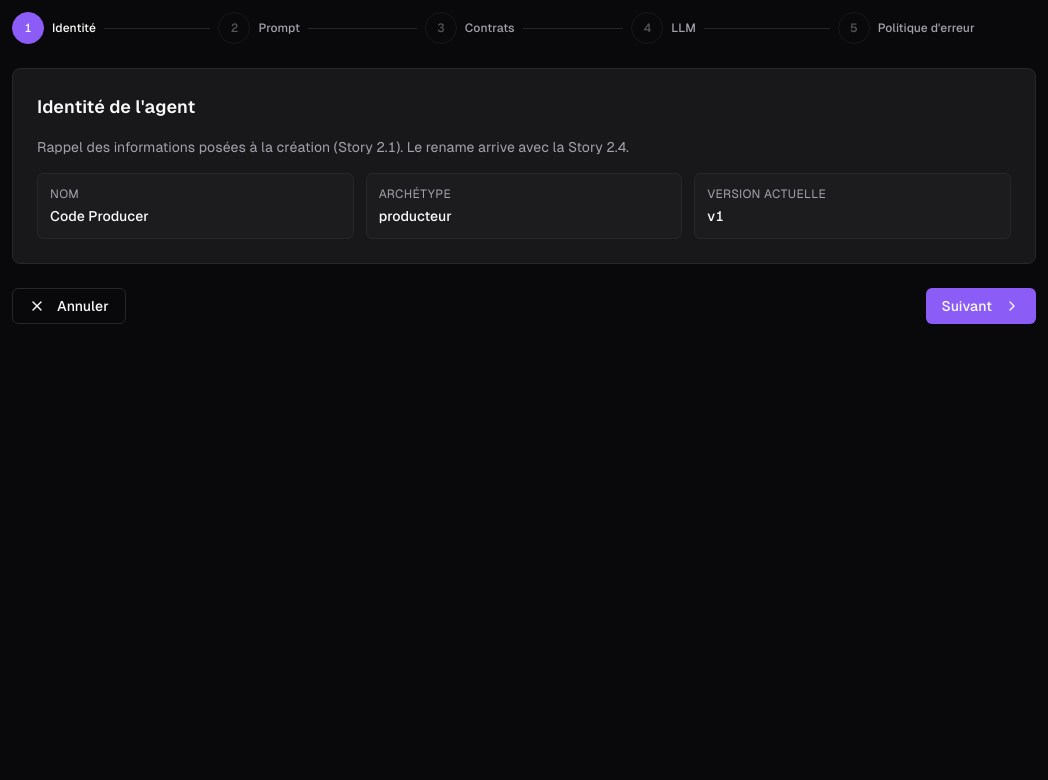
Test case: TemplateWizardForm › blocks 'Suivant' when the step Zod validation fails (invalid provider_chain JSON)
The image size is (1048, 780).
Step 1 — Identité (read-only). Click Next, expect Step 2 "System prompt".
Click the button "Suivant" at {"x": 981, "y": 306}, box [926,288,1036,324]
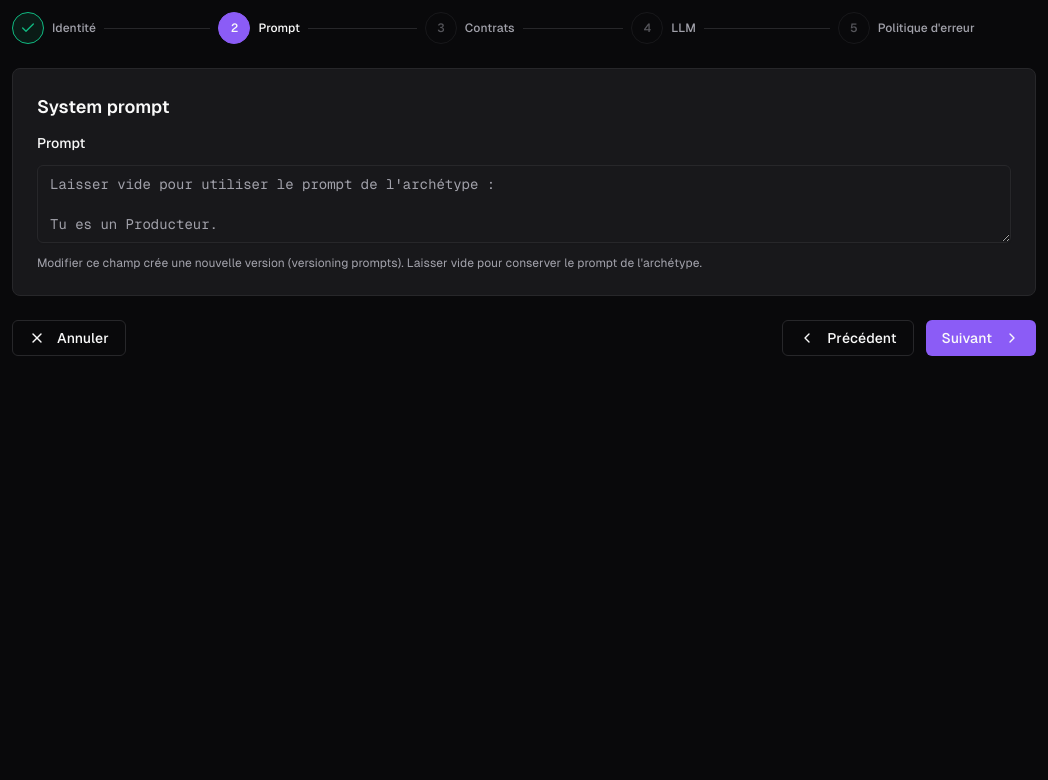
Expected: the heading "System prompt" is shown, [37,96,170,117]
Step 2 — Prompt. Click Next, expect Step 3 "Contrats élastiques".
Click the button "Suivant" at {"x": 981, "y": 338}, box [926,320,1036,356]
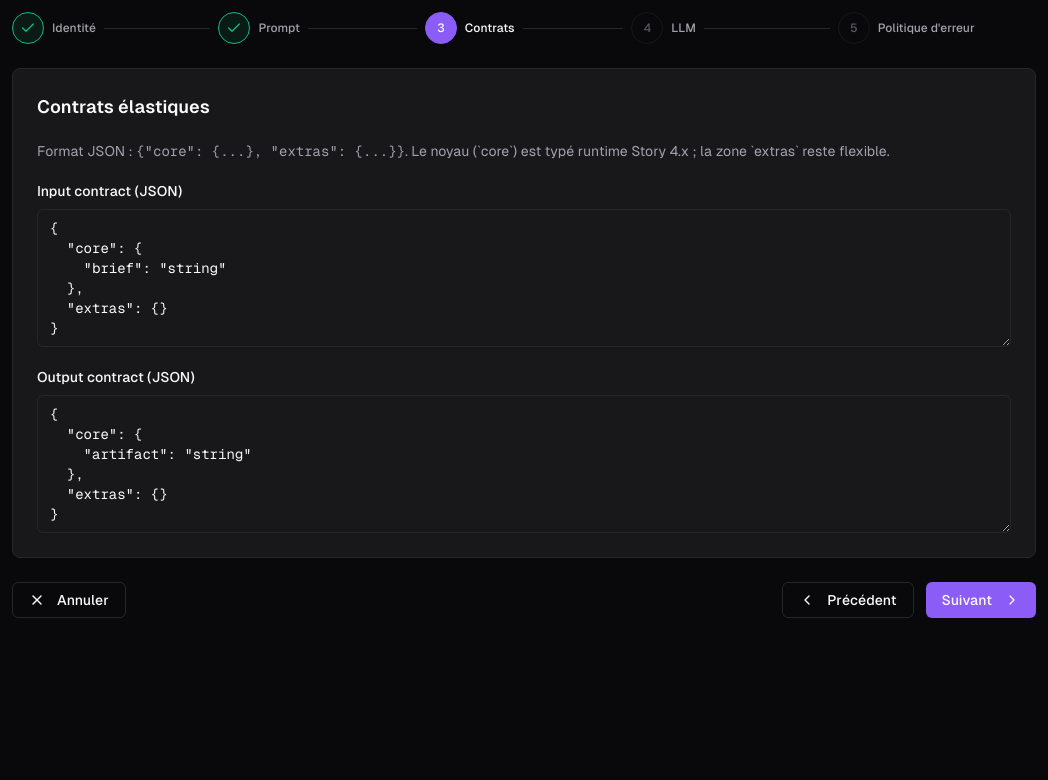
Expected: the heading "Contrats élastiques" is shown, [37,96,210,117]
Step 3 — Contracts. Click Next, expect Step 4 "Modèle LLM & provider chain".
Click the button "Suivant" at {"x": 981, "y": 600}, box [926,582,1036,618]
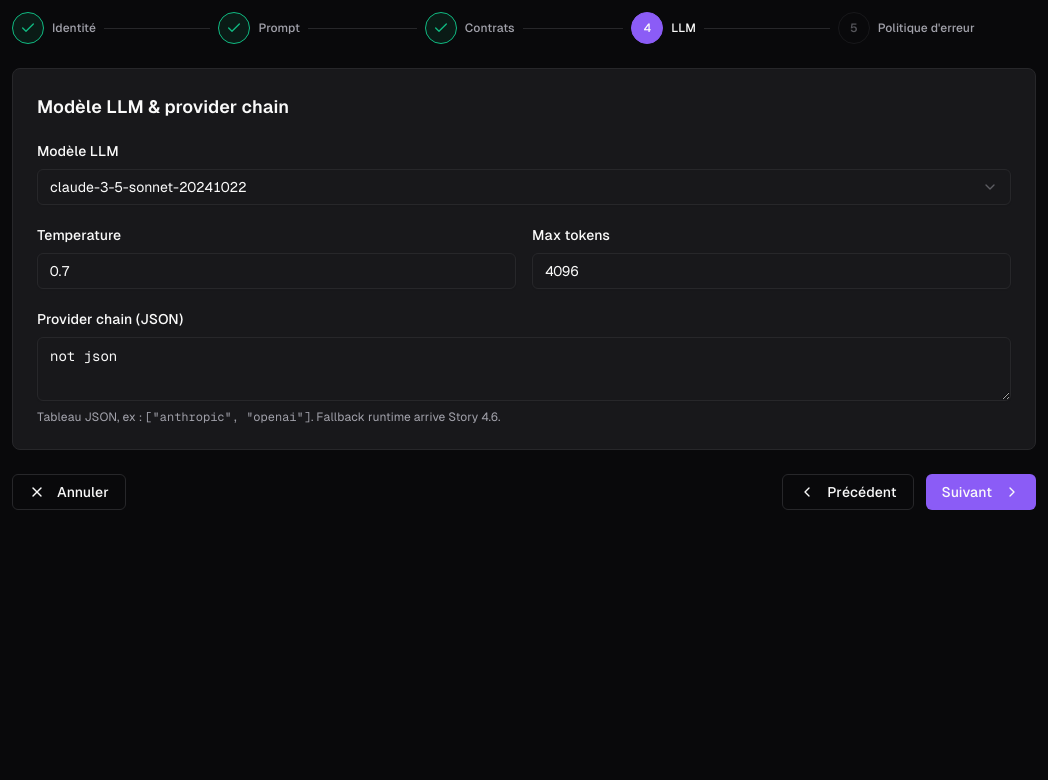
Expected: the heading "Modèle LLM & provider chain" is shown, [37,96,289,117]
Step 4 — clicking Next must be blocked by Zod (provider_chain invalid).
Click the button "Suivant" at {"x": 981, "y": 492}, box [926,474,1036,510]
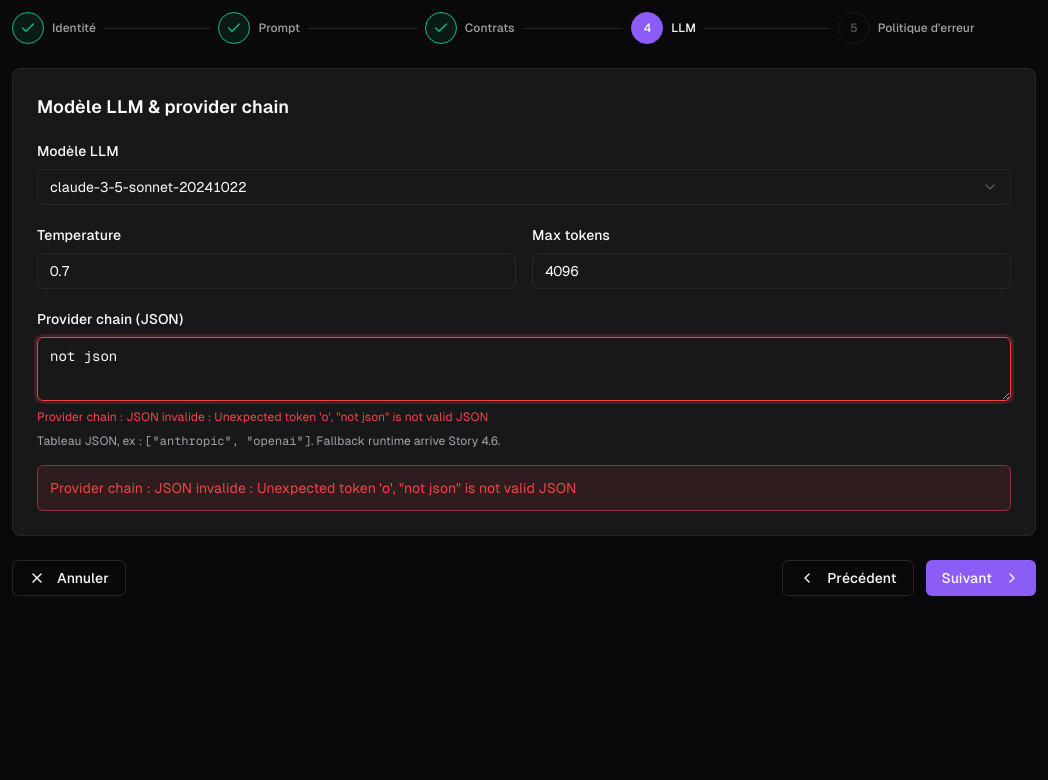
Expected: the heading "Modèle LLM & provider chain" is shown, [37,96,289,117]
Expected: the message shows "Provider chain", [50,480,576,496]
